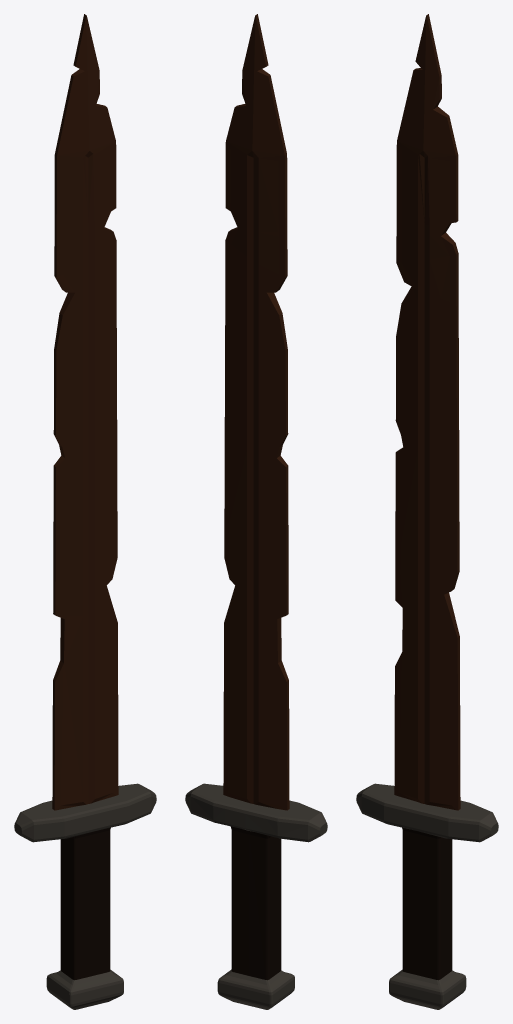
Rendered from sword_skeleton.FBX.
3 renders of one model, left to right at view 1: azimuth 30°, elevation 25°; view 2: azimuth 150°, elevation 25°; view 3: azimuth 330°, elevation 25°, orthographic.
Parts seen in each view (by area): view 1: Sword_v2_skelly; view 2: Sword_v2_skelly; view 3: Sword_v2_skelly.
Part boxes in pixels (bbox=[...]): Sword_v2_skelly: bbox=[14, 14, 156, 1009]; Sword_v2_skelly: bbox=[185, 14, 327, 1009]; Sword_v2_skelly: bbox=[356, 14, 498, 1009].
Bounding box in the file's own units: 3.11 × 21.74 × 0.9726.
